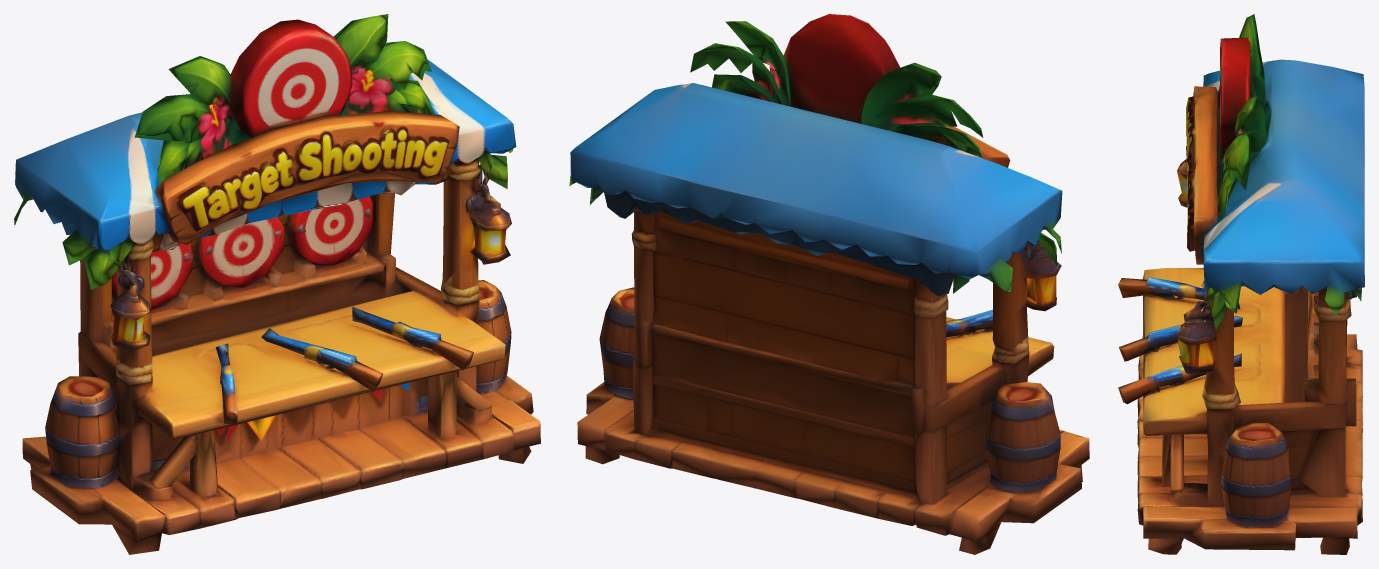
File: target shooting booth 3d model.glb
3 views of the same model, side by side, from view 1: azimuth 30°, elevation 25°; view 2: azimuth 150°, elevation 25°; view 3: azimuth 270°, elevation 25° (orthographic). The views are drawn at different scales.
Parts seen in each view (by area): view 1: tripo_node_afe82025-27a8-4d4e-be77-90655b24831e; view 2: tripo_node_afe82025-27a8-4d4e-be77-90655b24831e; view 3: tripo_node_afe82025-27a8-4d4e-be77-90655b24831e.
Boxes of the visible parts, <box> form: tripo_node_afe82025-27a8-4d4e-be77-90655b24831e: <box>14,14,540,554</box>; tripo_node_afe82025-27a8-4d4e-be77-90655b24831e: <box>569,14,1089,554</box>; tripo_node_afe82025-27a8-4d4e-be77-90655b24831e: <box>1118,14,1364,554</box>.
Size of the model in its own units: 0.9771 by 0.9207 by 0.4892.
1 material, 1 textured.
